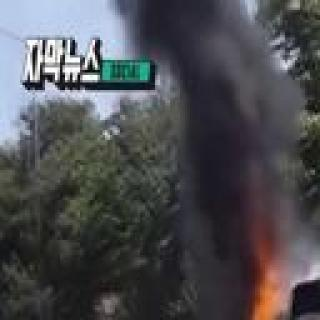fire: (232, 302, 282, 320)
